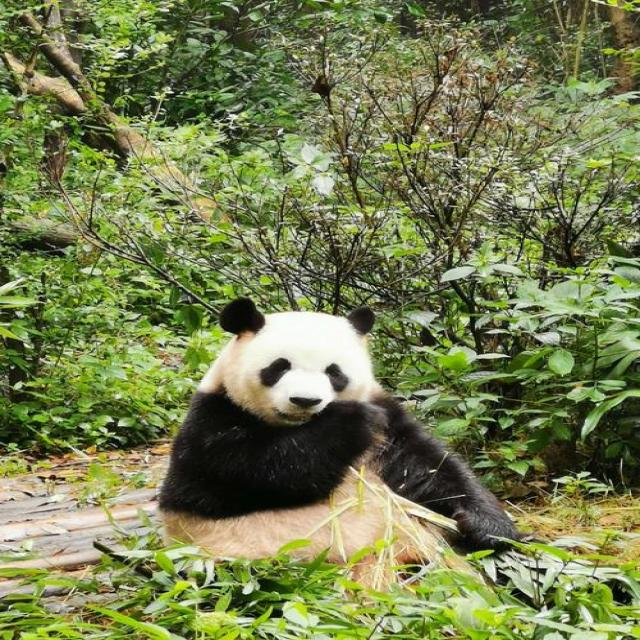panda: (150, 294, 561, 598)
